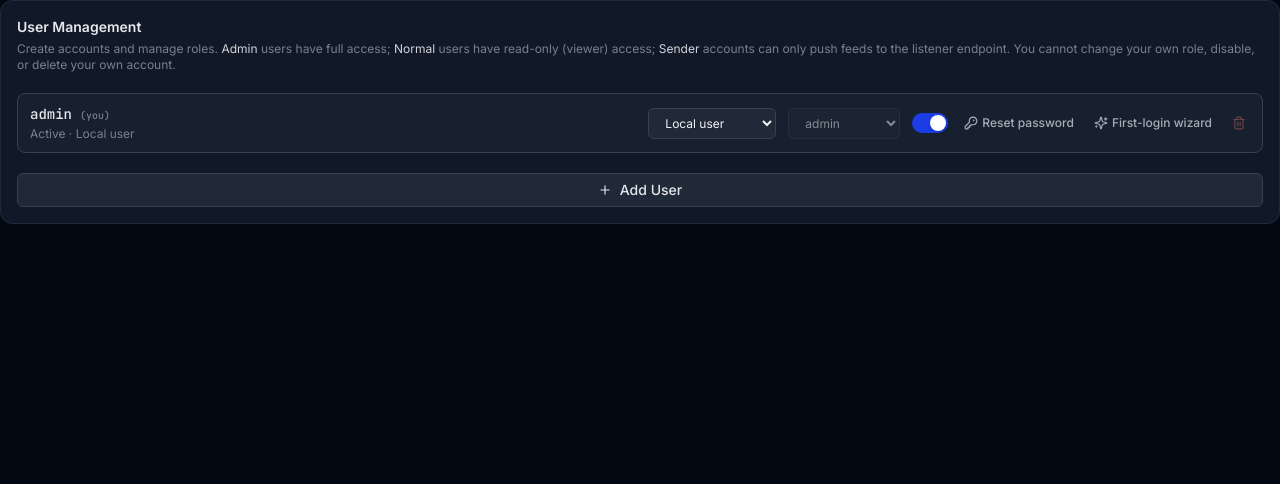
Test case: UserManagementTab (prompts-045) › blocks create for an invalid username
Step 1. Click the button "Add User" → (640, 190), box [17,173,1263,207]
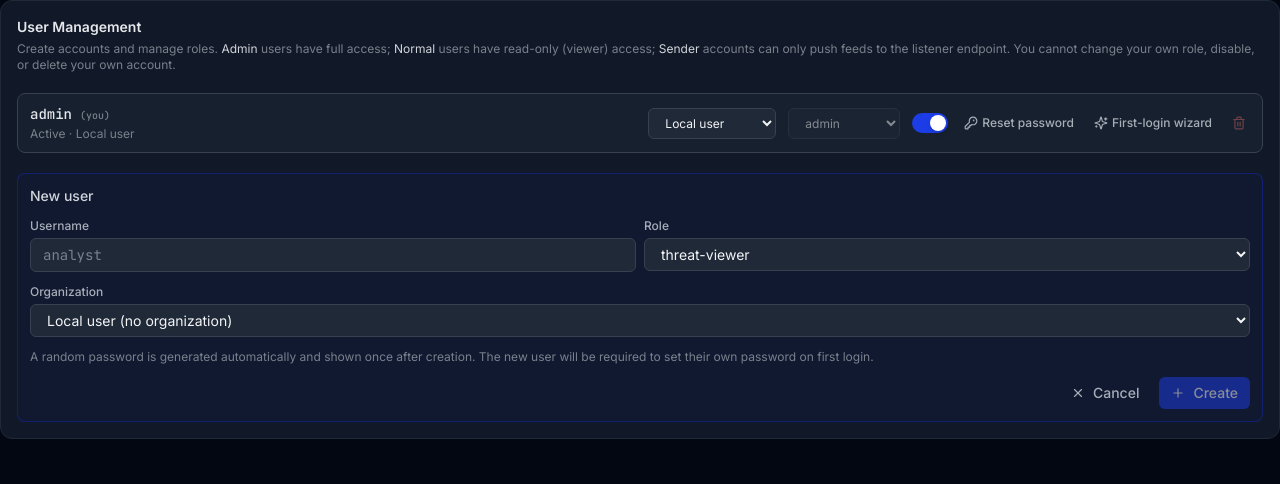
Step 2. Type "bad user!" into the field labelled "Username" → (333, 255), box [30,238,636,272]
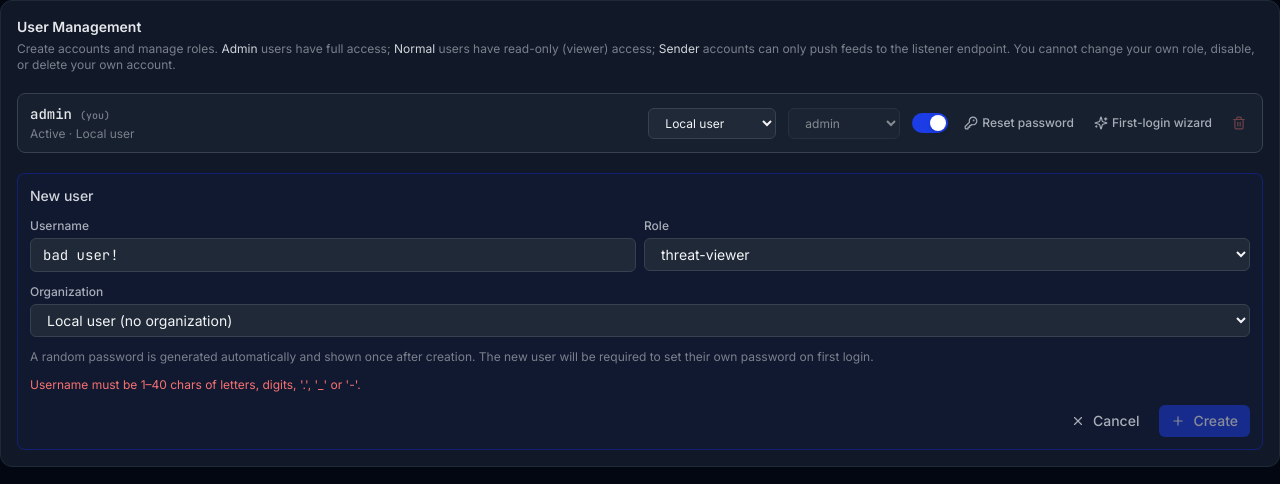
Expected: the button "Create" is disabled, [1159,405,1250,437]
Expected: the text "must be 1–40 chars" is shown, [30,377,361,392]
